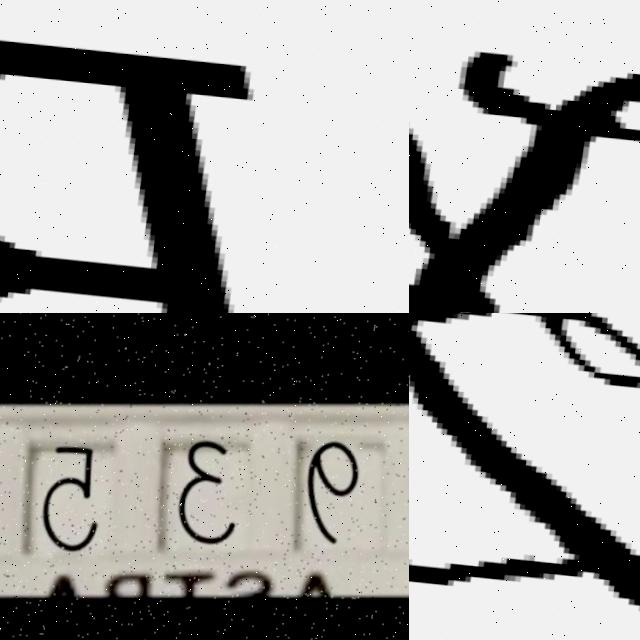3: (147, 411, 285, 563)
5: (12, 419, 150, 573)
9: (272, 410, 409, 561)
B: (0, 39, 255, 313)
X: (409, 12, 640, 313)
Z: (409, 313, 640, 634)
